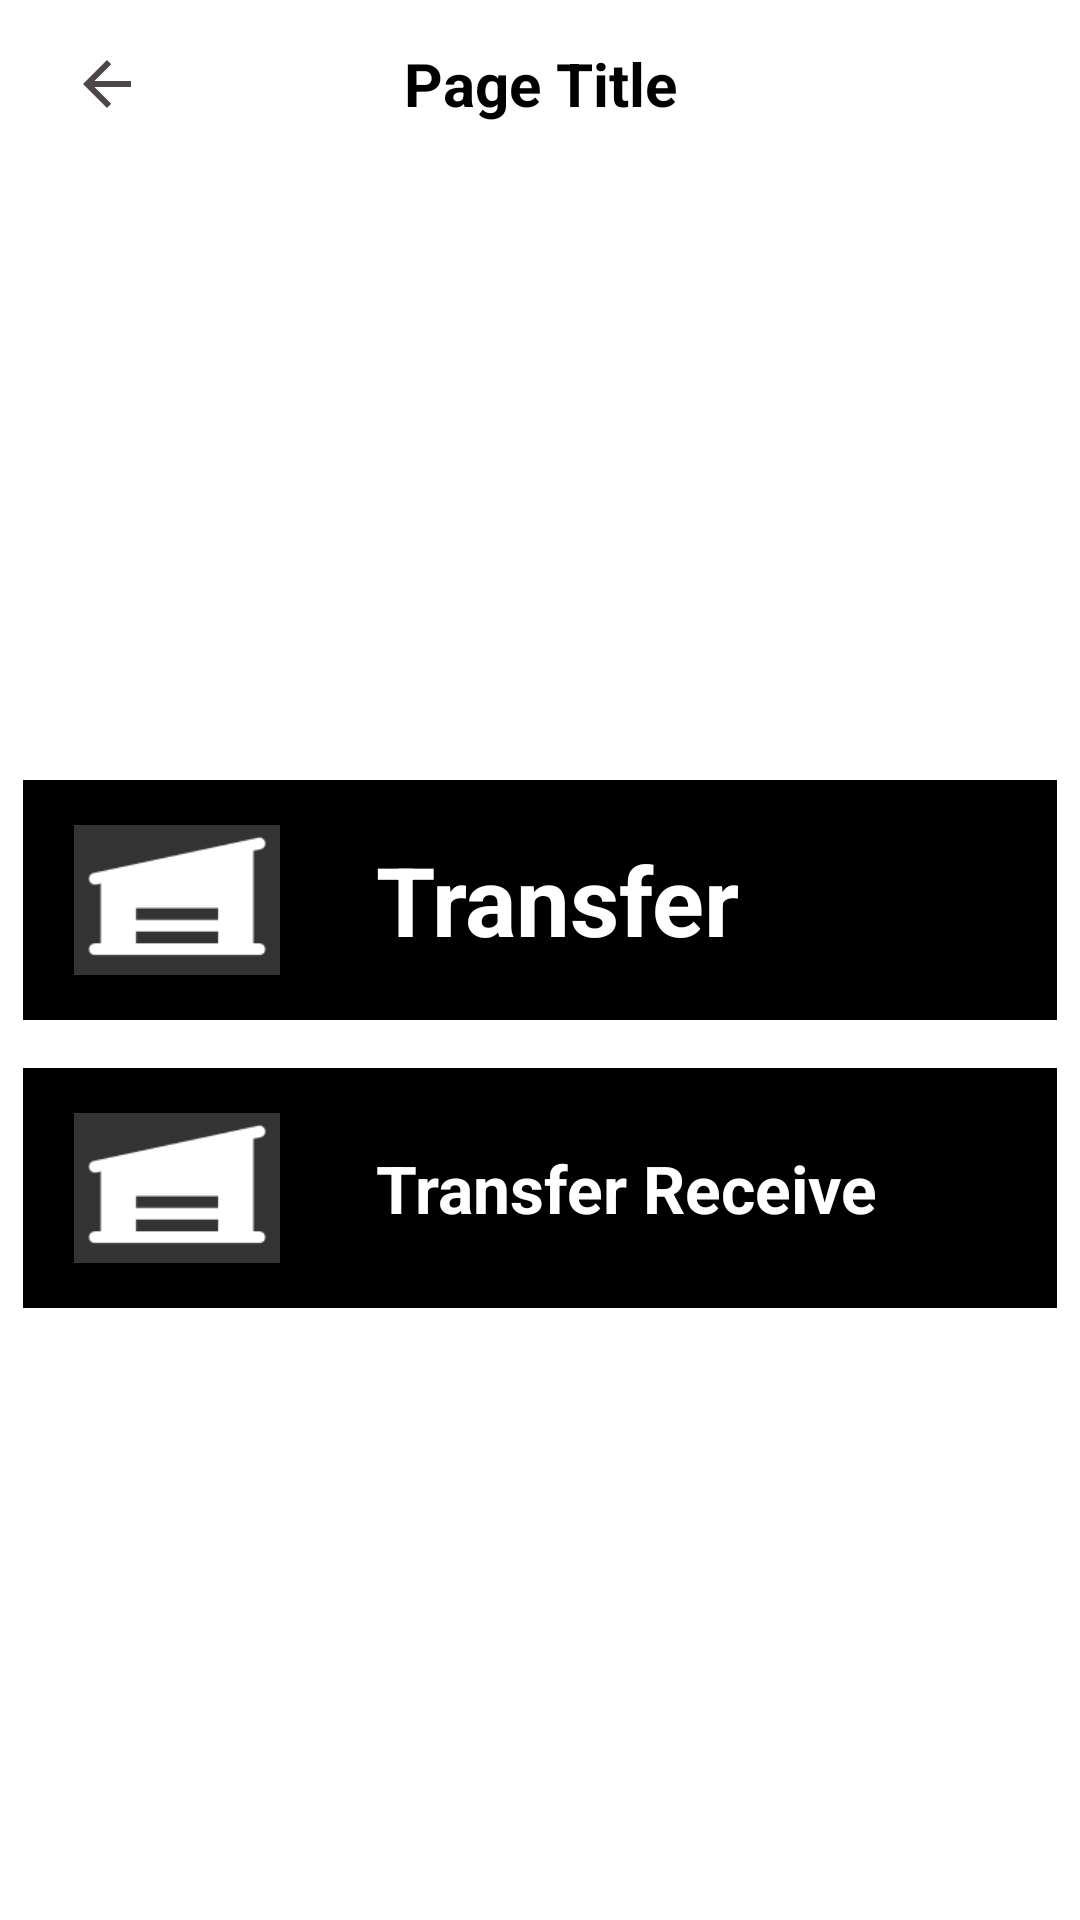

Point at icon controls on the screen. Image size 1080w x 1920h, points as (x,y).
back: (107,84)
